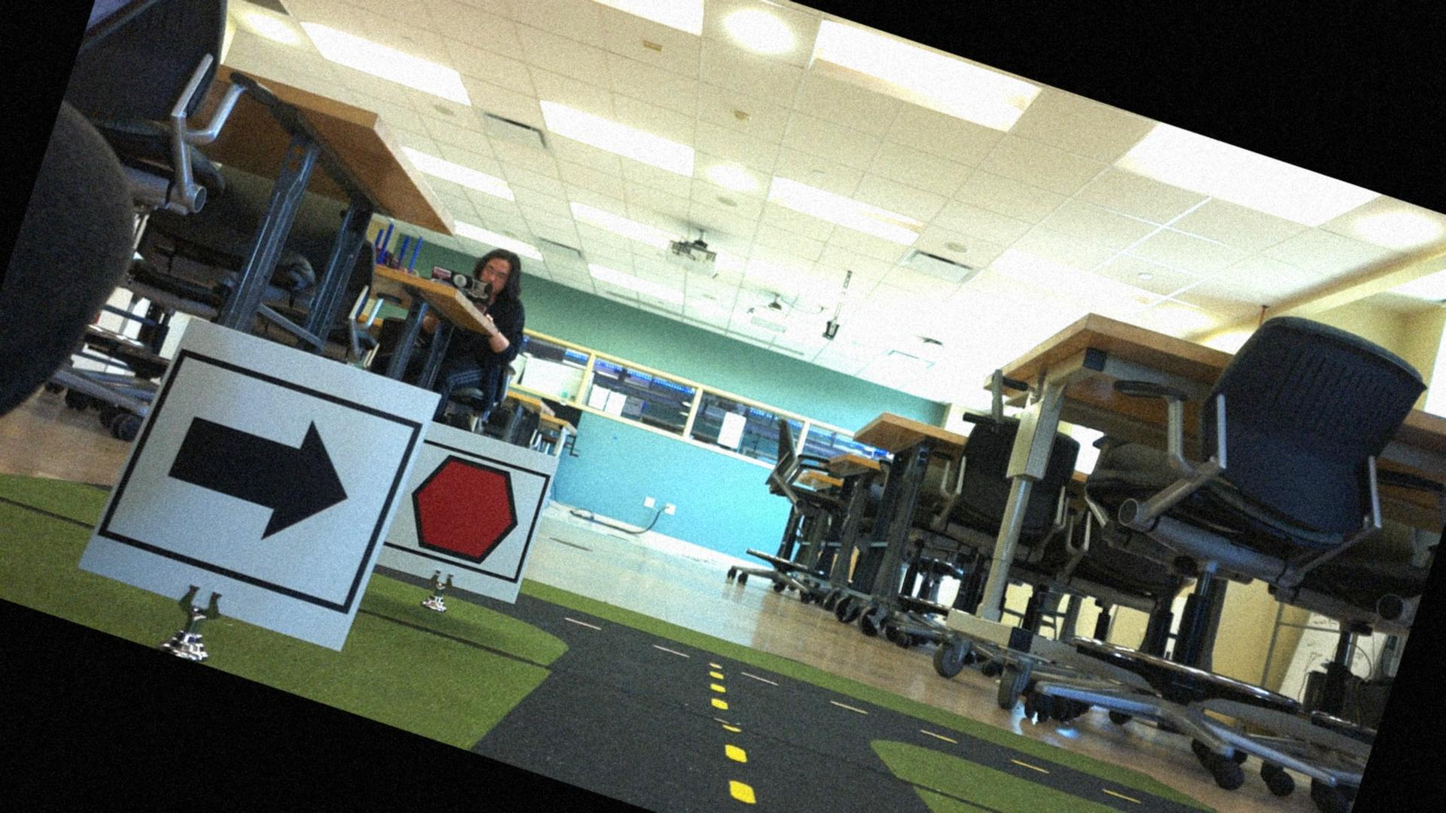stop: (386, 438, 540, 583)
turnright: (117, 352, 405, 617)
yellowline: (700, 740, 789, 812), (700, 667, 739, 714)
